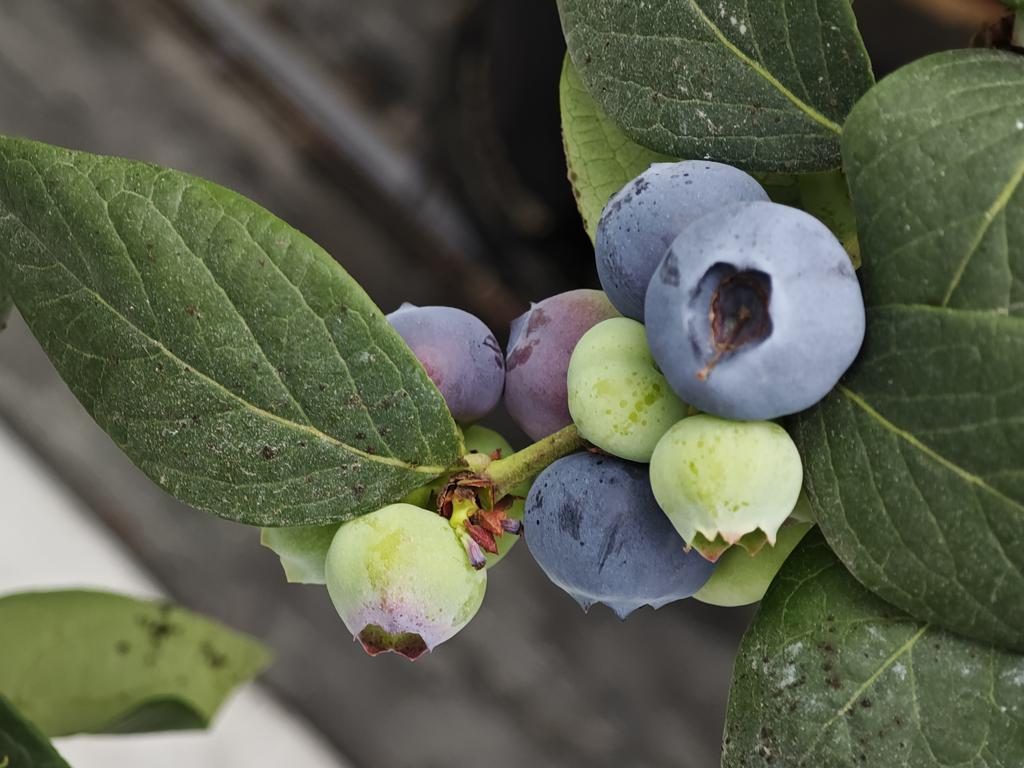RipeBlueBerry: (649, 199, 869, 423)
UnripeBlueBerry: (329, 502, 492, 663), (649, 415, 807, 548)
